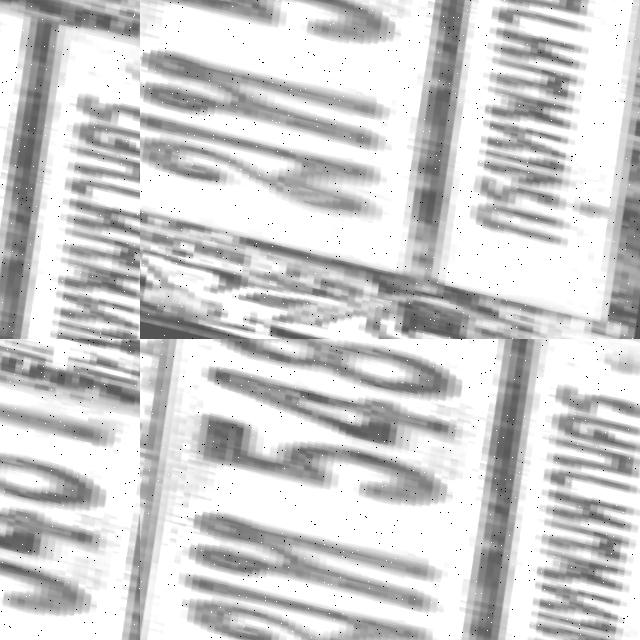license-plate: (140, 339, 640, 640), (224, 0, 640, 339), (0, 339, 140, 640), (0, 44, 140, 339)
